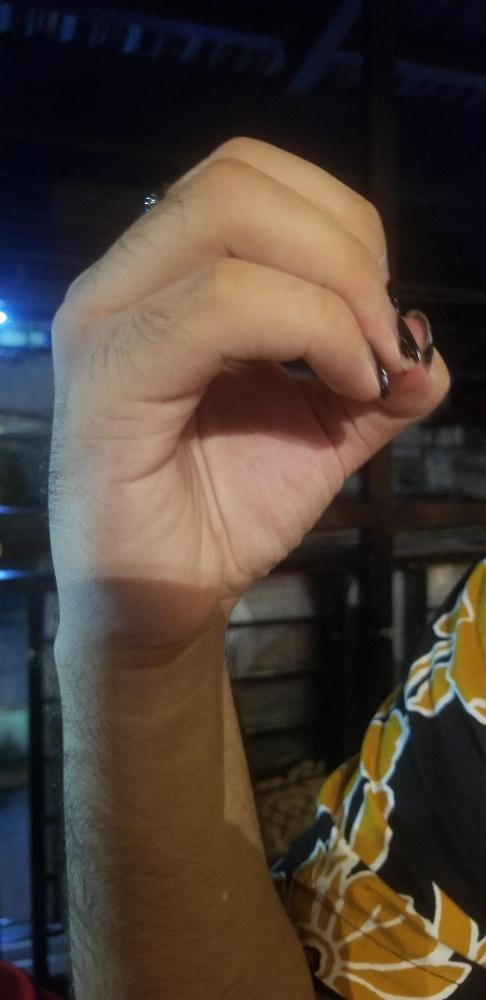o: (39, 133, 457, 656)
